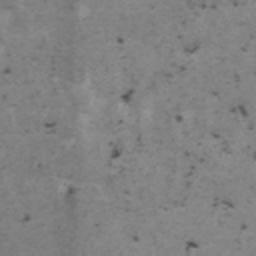Oxide scale of temperature system: (111, 41, 256, 230), (38, 163, 77, 201), (132, 234, 198, 256), (200, 0, 239, 10), (22, 214, 32, 224), (45, 120, 56, 128), (3, 65, 13, 73), (118, 36, 125, 45)
